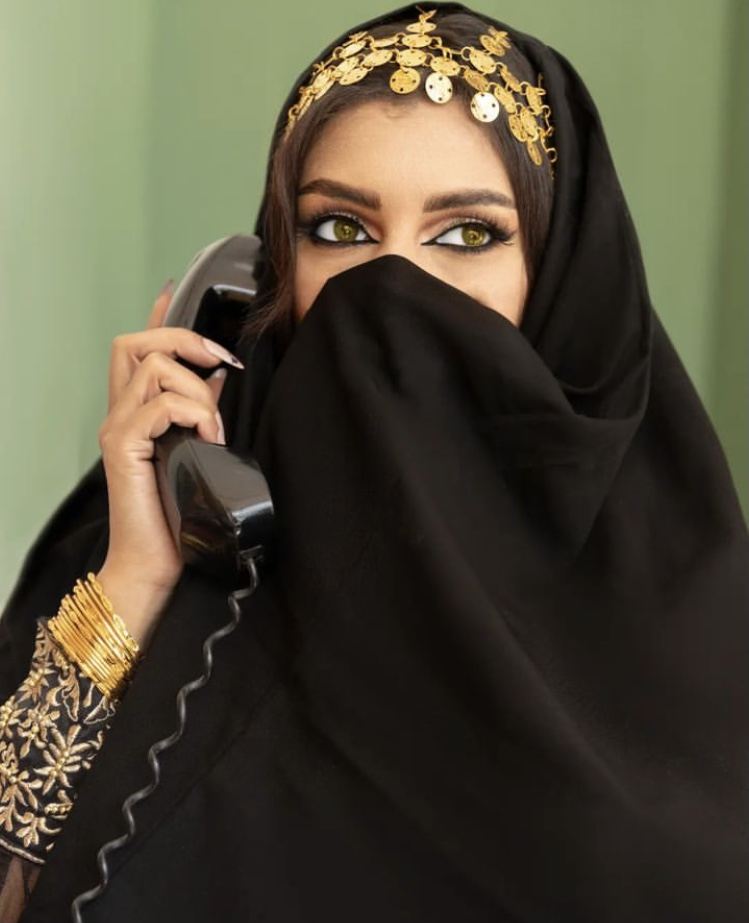Saudi_Founding_Day: (1, 6, 749, 923)
